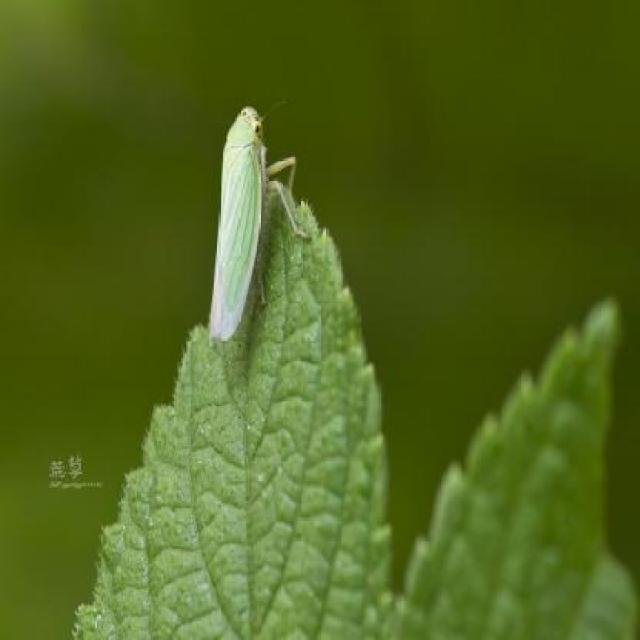green-leafhopper: (209, 104, 277, 338)
